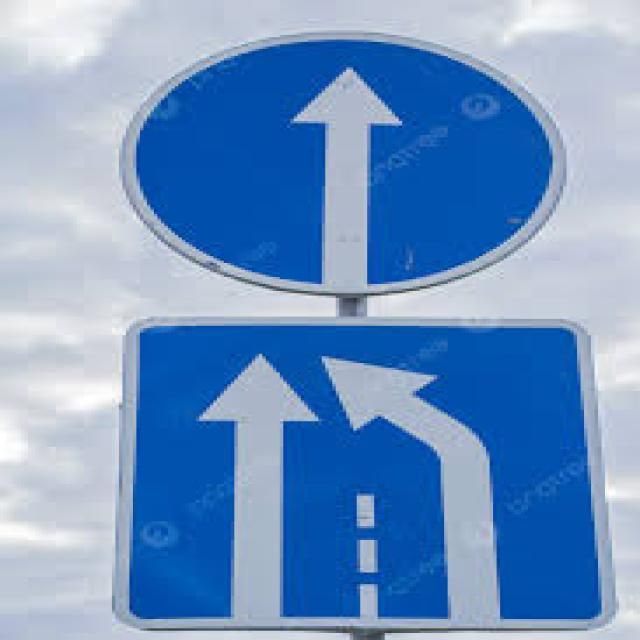STRAIGHT: (122, 35, 563, 293)
